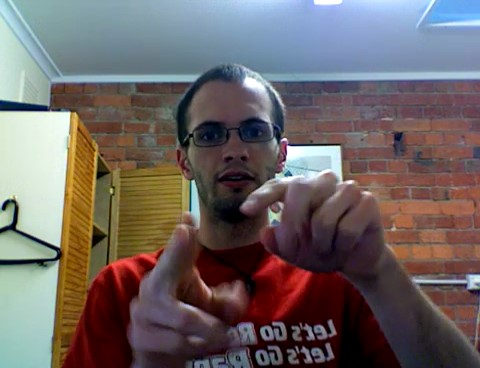F: (125, 161, 381, 360)
